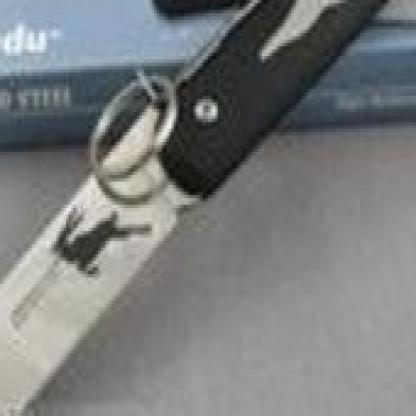knife: (0, 96, 228, 413)
